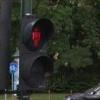traffic lights: (22, 18, 53, 90)
